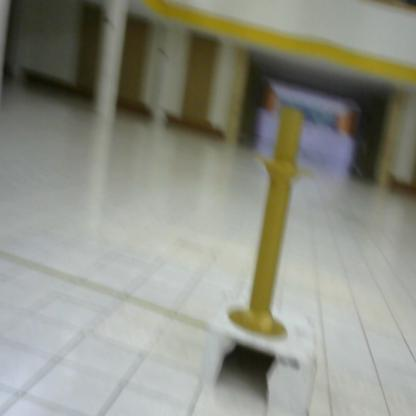pole: (230, 105, 326, 353)
